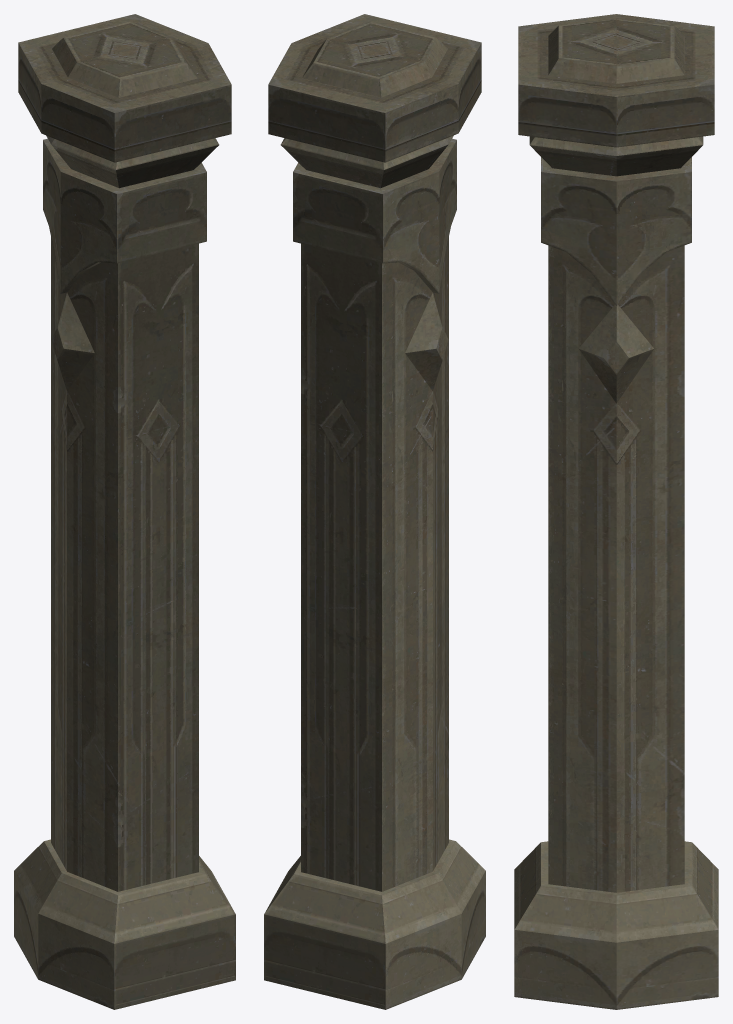
Rendered from bg_rad_kamen_column01_sm_hhk.obj.
3 renders of one model, left to right at view 1: azimuth 30°, elevation 25°; view 2: azimuth 150°, elevation 25°; view 3: azimuth 270°, elevation 25°, orthographic.
Visible parts, largest first — view 1: bg_rad_kamen_column01_sm_hhk_0; view 2: bg_rad_kamen_column01_sm_hhk_0; view 3: bg_rad_kamen_column01_sm_hhk_0.
Part boxes in pixels (bbox=[...]): bg_rad_kamen_column01_sm_hhk_0: bbox=[14, 14, 235, 1009]; bg_rad_kamen_column01_sm_hhk_0: bbox=[264, 14, 485, 1009]; bg_rad_kamen_column01_sm_hhk_0: bbox=[514, 14, 718, 1009].
Bounding box in the file's own units: 0.72 × 3.6 × 0.72.
1 material, 1 textured.
